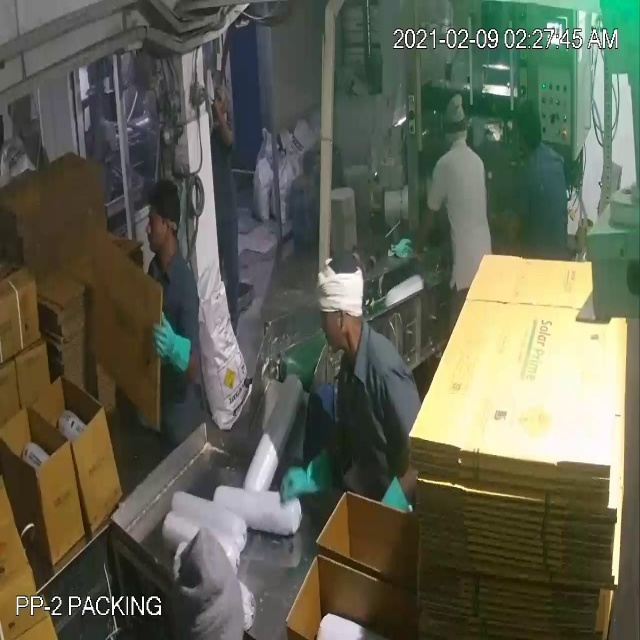Guantes: (270, 448, 340, 510), (146, 303, 197, 383)
Sin_guantes: (405, 196, 438, 268), (206, 91, 241, 156)
